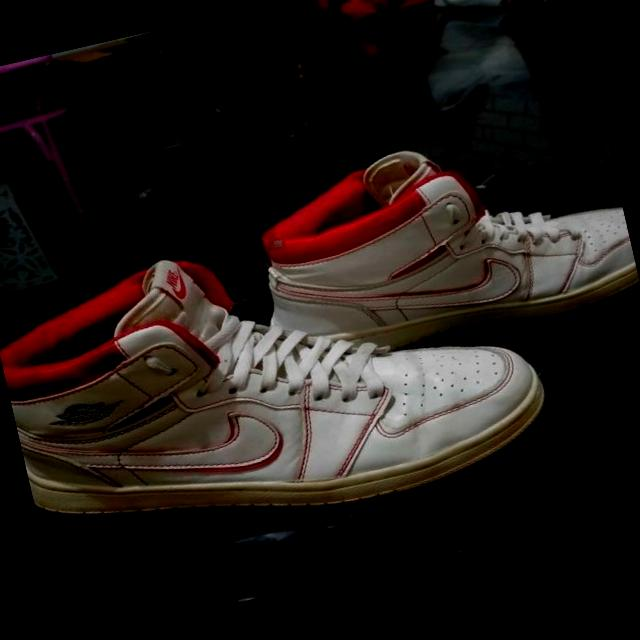nike_fake_jordan: (0, 176, 563, 574), (228, 104, 640, 386)
